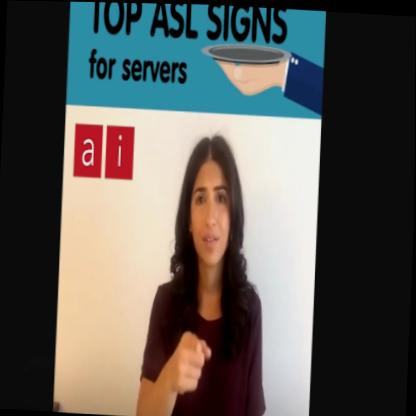HowAreYou: (161, 317, 236, 416)
